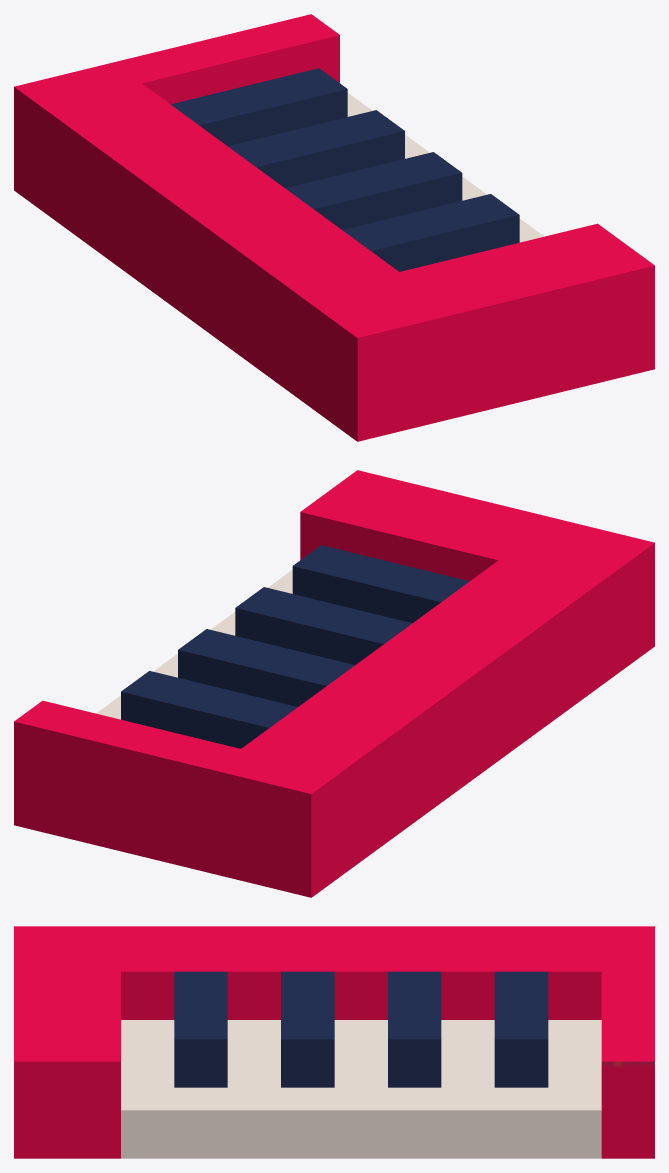
The model's file is synth.obj.
3 renders of one model, top to bottom at view 1: azimuth 30°, elevation 25°; view 2: azimuth 150°, elevation 25°; view 3: azimuth 270°, elevation 25°, orthographic. The views are drawn at different scales.
Visible parts, largest first — view 1: synth; view 2: synth; view 3: synth.
Part boxes in pixels (x1,y1,x2,y2): synth: [14, 14, 654, 441]; synth: [14, 470, 654, 897]; synth: [14, 926, 654, 1158].
Size of the model in its own units: 1.5 by 0.5 by 3.
Materials: 1 (1 with a texture image).
